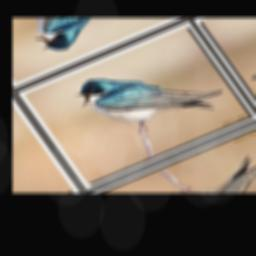Swallow: (66, 38, 233, 153)
